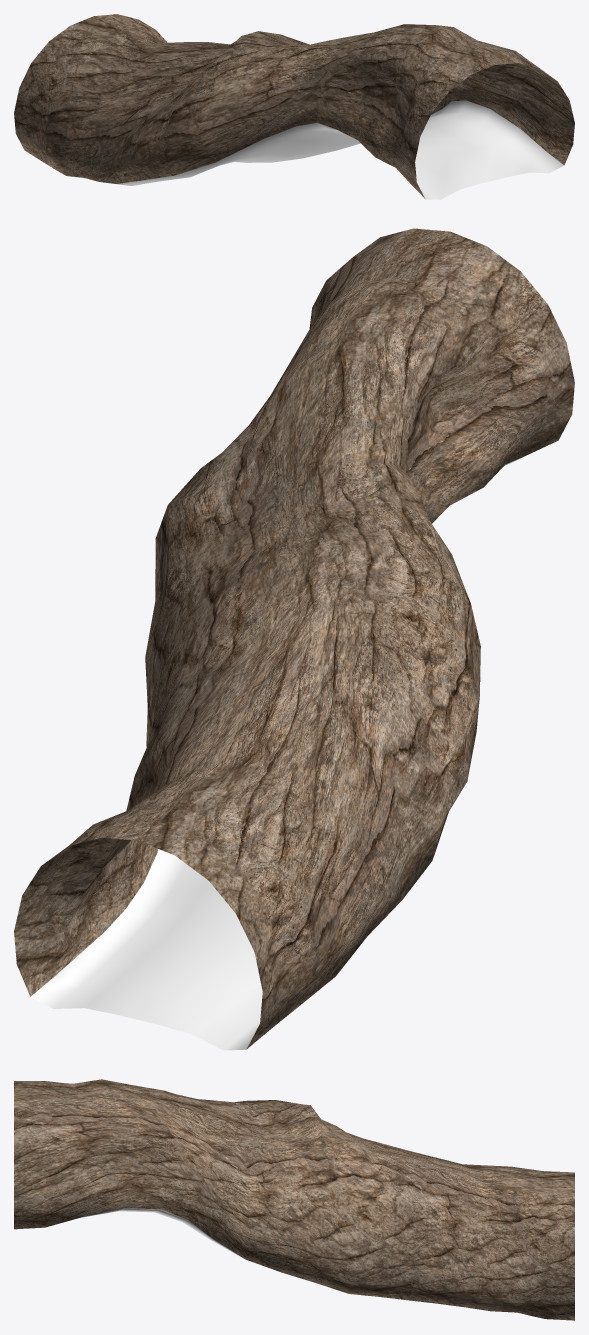
File: CaveCorridorStraightDown.fbx
3 renders of one model, top to bottom at view 1: azimuth 30°, elevation 25°; view 2: azimuth 150°, elevation 25°; view 3: azimuth 270°, elevation 25°, orthographic. The views are drawn at different scales.
Parts seen in each view (by area): view 1: CaveCorridorStraightDown; view 2: CaveCorridorStraightDown; view 3: CaveCorridorStraightDown.
Boxes of the visible parts, x1=… form: CaveCorridorStraightDown: x1=14, y1=14, x2=574, y2=199; CaveCorridorStraightDown: x1=14, y1=228, x2=574, y2=1050; CaveCorridorStraightDown: x1=14, y1=1079, x2=574, y2=1320.
Bounding box in the file's own units: 532 × 512 × 1040.
